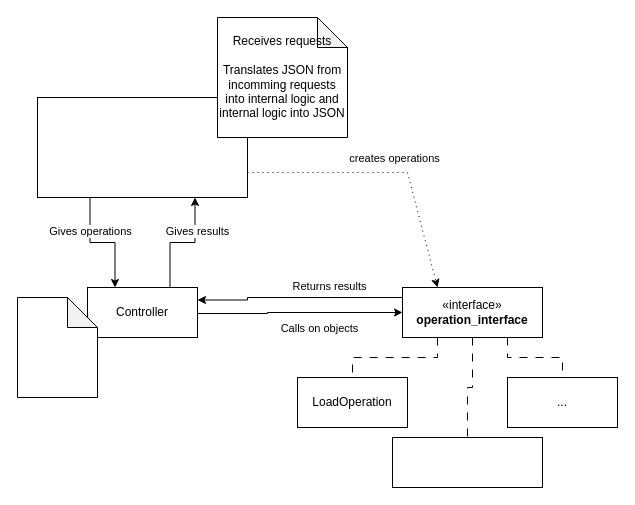
Some shapes in this 635 by 505 pixel diagram are drawn without their labels. The box of each missing label's shape, as (x1, y1, x2, y2) in pixels:
api.py Routes: GET status POST Execute-pispline GET datasets: (36, 96, 248, 198)
Executes requests: (16, 296, 98, 398)
FilterRowsOperation: (392, 436, 542, 488)
